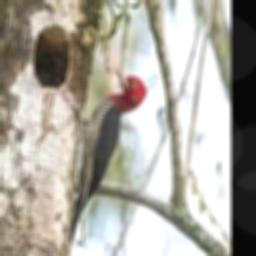Woodpecker: (69, 61, 146, 245)
